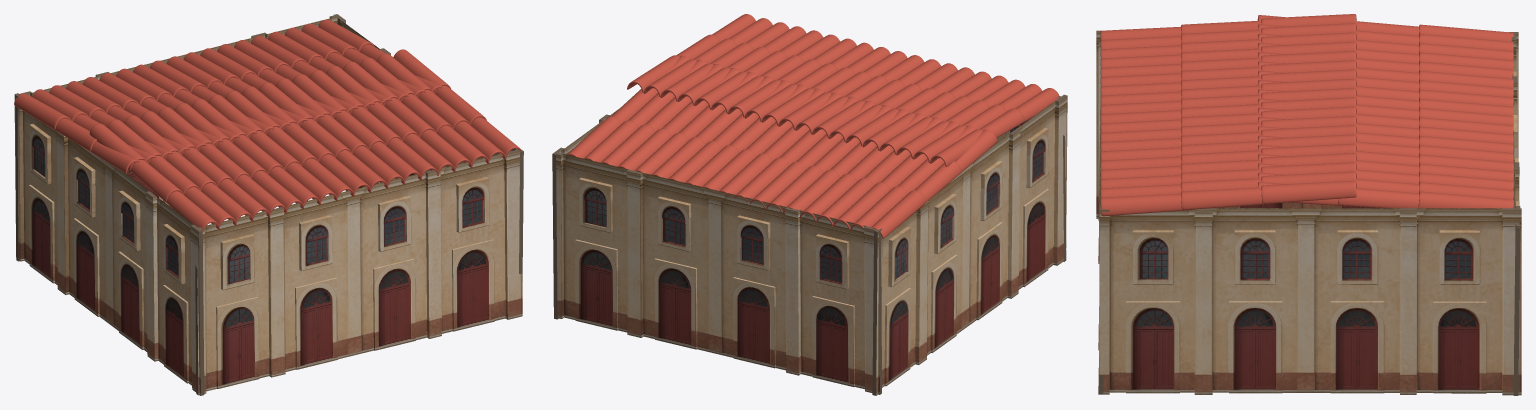
The model's file is predio1_asset.fbx.
3 views of the same model, side by side, from view 1: azimuth 30°, elevation 25°; view 2: azimuth 150°, elevation 25°; view 3: azimuth 270°, elevation 25° (orthographic). The views are drawn at different scales.
Visible parts, largest first — view 1: Referencia, paredes, Roof, Roof.001; view 2: Referencia, paredes, Roof.001, Roof; view 3: Referencia, paredes, Roof, Roof.001.
Part boxes in pixels (left/top/right/bottom): Referencia, paredes: left=14, top=14, right=523, bottom=395; Roof: left=89, top=49, right=521, bottom=231; Roof.001: left=14, top=19, right=443, bottom=173; Referencia, paredes: left=552, top=94, right=1067, bottom=395; Roof.001: left=567, top=55, right=997, bottom=238; Roof: left=627, top=14, right=1059, bottom=166; Referencia, paredes: left=1096, top=30, right=1521, bottom=395; Roof: left=1100, top=14, right=1356, bottom=216; Roof.001: left=1257, top=15, right=1513, bottom=208.
Size of the model in its own units: 418 by 225 by 416.
5 materials, 3 textured.
